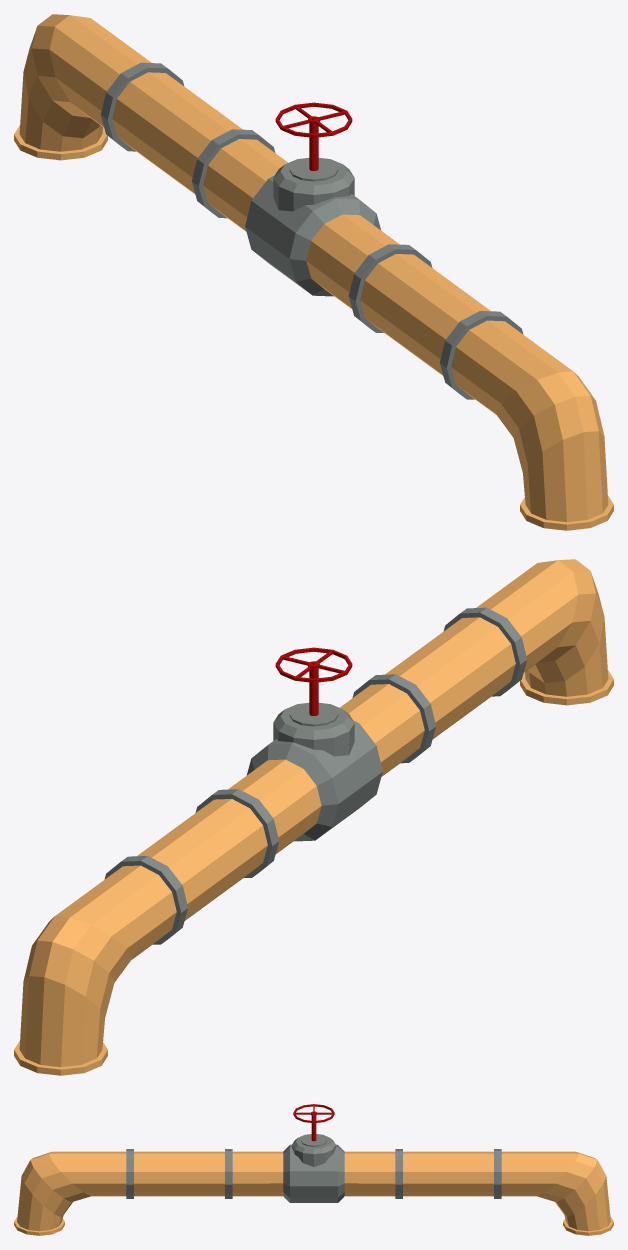
File: SM_gas_pipeline_01.glb
3 views of the same model, one above another, from view 1: azimuth 30°, elevation 25°; view 2: azimuth 150°, elevation 25°; view 3: azimuth 270°, elevation 25° (orthographic). The views are drawn at different scales.
Visible parts, largest first — view 1: SM_gas_pipeline_01; view 2: SM_gas_pipeline_01; view 3: SM_gas_pipeline_01.
Boxes of the visible parts, <box> form: SM_gas_pipeline_01: <box>14,14,613,530</box>; SM_gas_pipeline_01: <box>14,559,613,1075</box>; SM_gas_pipeline_01: <box>14,1104,613,1235</box>.
Bounding box in the file's own units: 0.3906 × 0.8318 × 4.
1 material, 1 textured.
